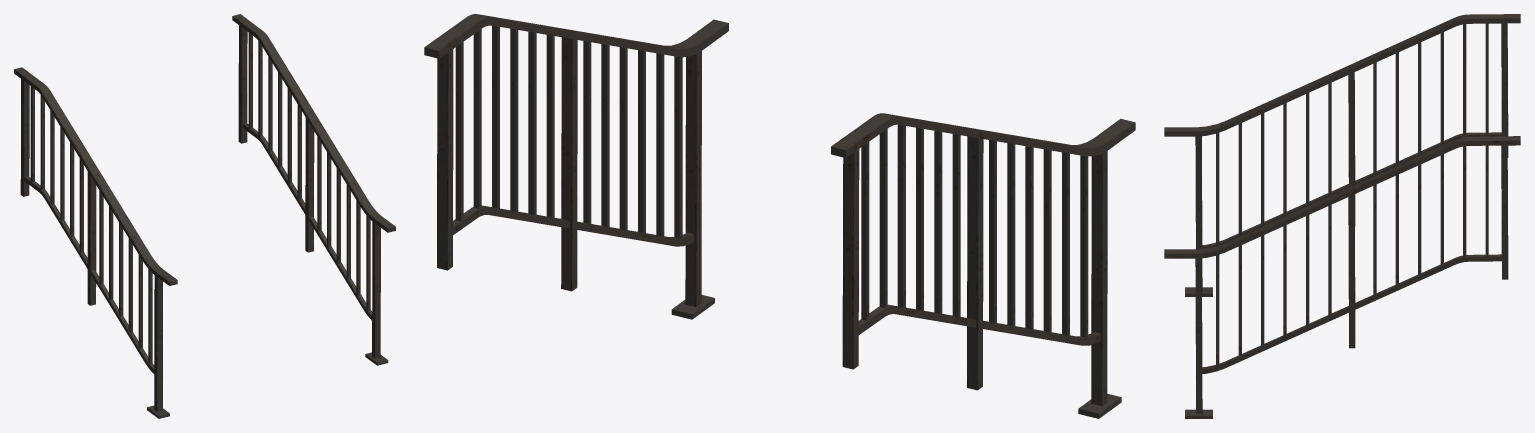
Rendered from Stairs_Rails_Metal.gltf.
3 views of the same model, side by side, from view 1: azimuth 30°, elevation 25°; view 2: azimuth 150°, elevation 25°; view 3: azimuth 270°, elevation 25° (orthographic). The views are drawn at different scales.
Visible parts, largest first — view 1: Stairs_Rails_Metal; view 2: Stairs_Rails_Metal; view 3: Stairs_Rails_Metal.
Boxes of the visible parts, x1,y1,x2,y2 form: Stairs_Rails_Metal: (14,14,395,418); Stairs_Rails_Metal: (424,14,1135,418); Stairs_Rails_Metal: (1164,14,1520,418).
Bounding box in the file's own units: 1.96 × 1.98 × 2.31.
1 material, 1 textured.
